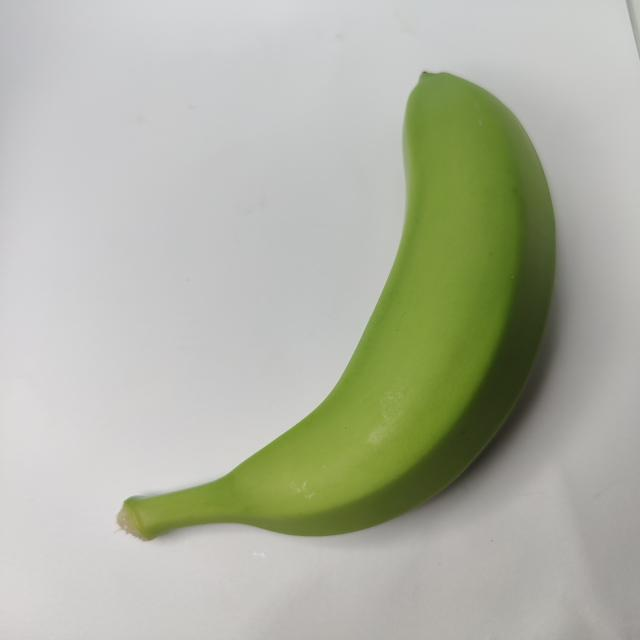raw: (77, 48, 595, 579)
